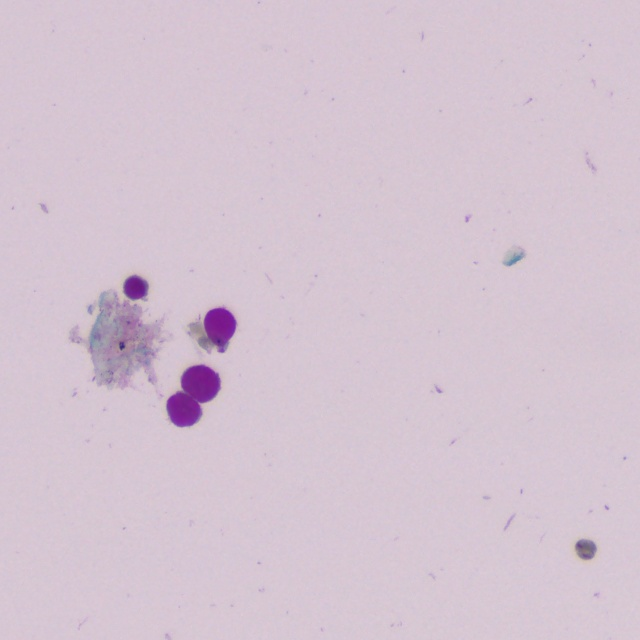non_viable: (575, 540, 596, 559)
viable: (182, 366, 218, 401), (205, 309, 234, 350), (168, 393, 199, 424), (124, 276, 147, 299)
